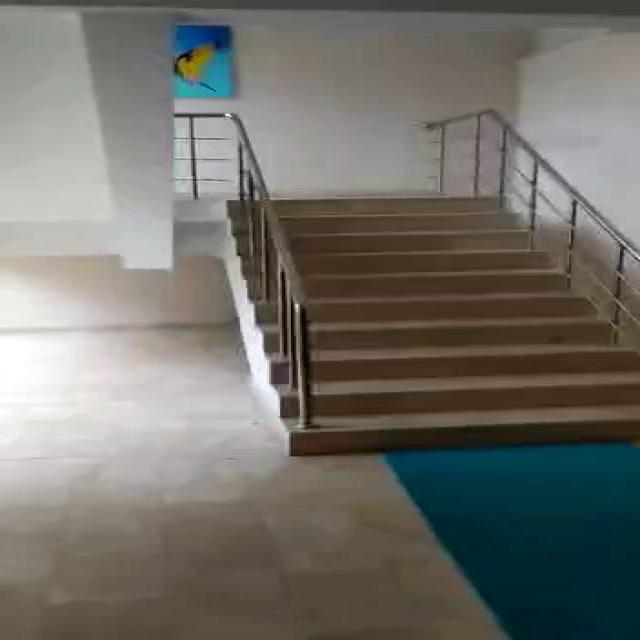upstair: (215, 195, 640, 453)
